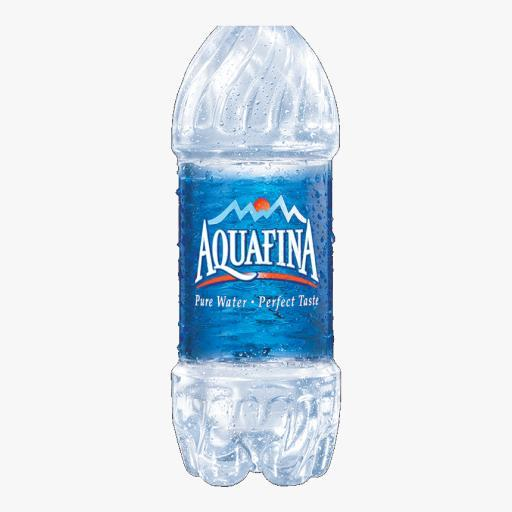bottle: (165, 22, 349, 497)
